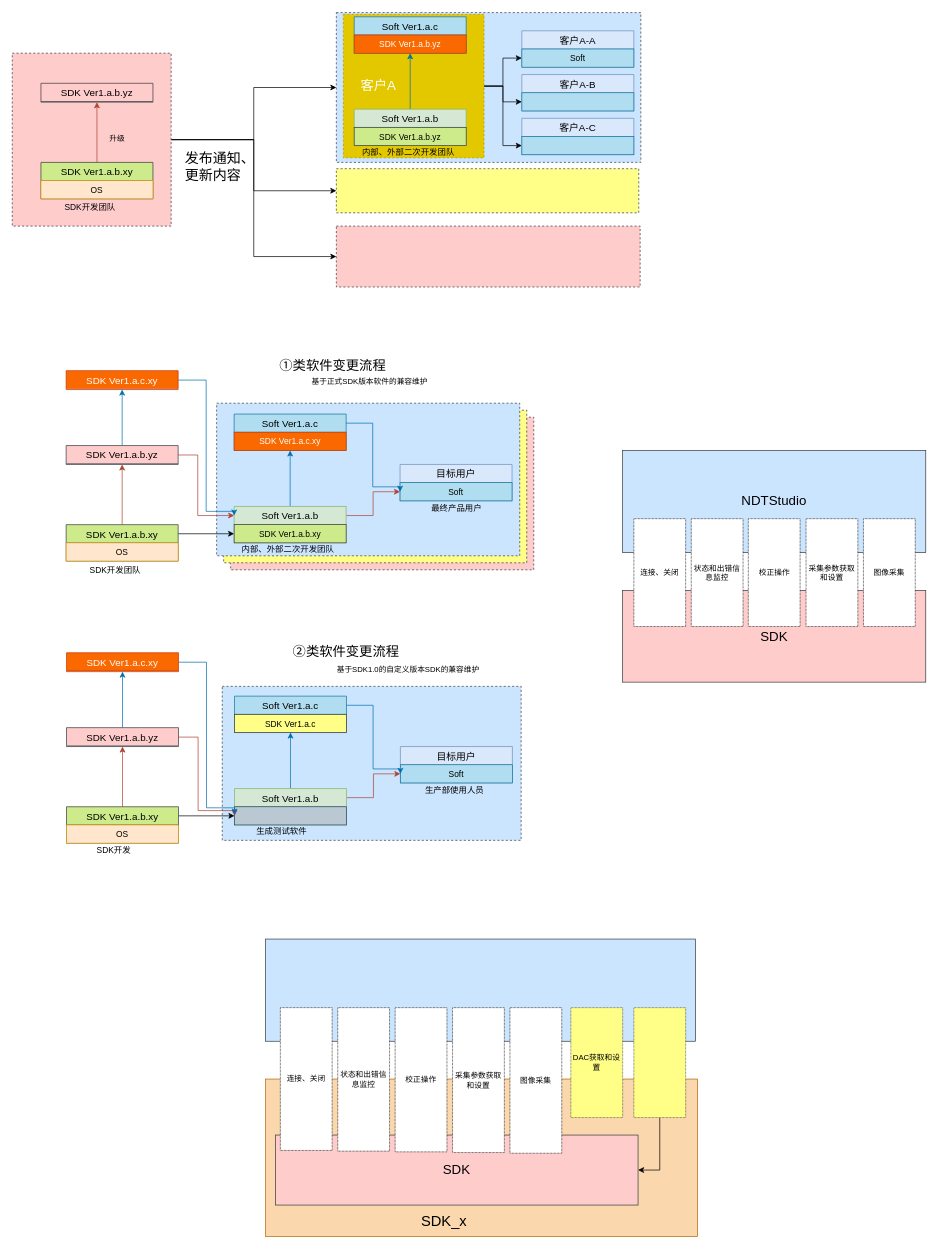
Some shapes in this 938 by 1249 pixel diagram are drawn without their labels. The centre of each missing label's shape, as x and y in pixels:
"SDK Ver1.a.b" belongs at point (290, 815).
"Soft2" belongs at point (577, 101).
"Soft3" belongs at point (577, 145).
"出厂模板和配置文件生成" belongs at point (659, 1062).
"客户B" belongs at point (487, 190).
"客户C" belongs at point (488, 256).
"自动化生产测试软件" belongs at point (480, 989).
